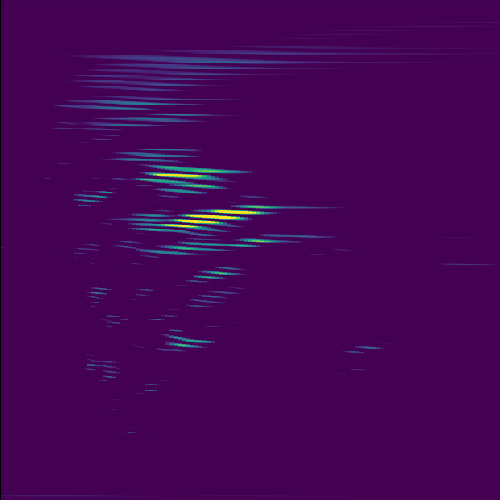semblance: (119, 202, 282, 237), (127, 165, 252, 195)
